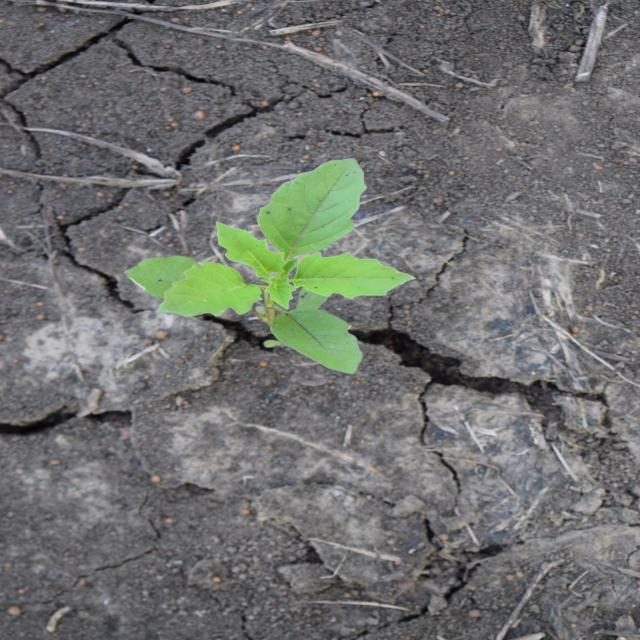CutleafGroundcherry: (121, 156, 418, 376)
